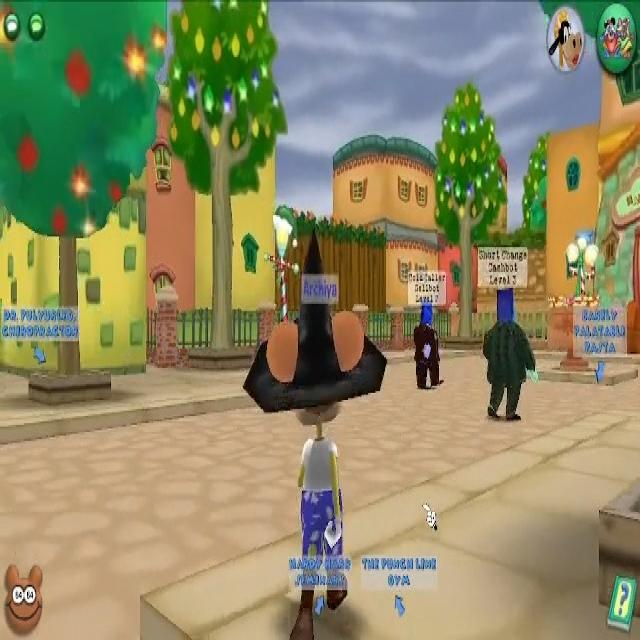coldcaller: (408, 270, 449, 388)
shortchange: (477, 247, 537, 425)
